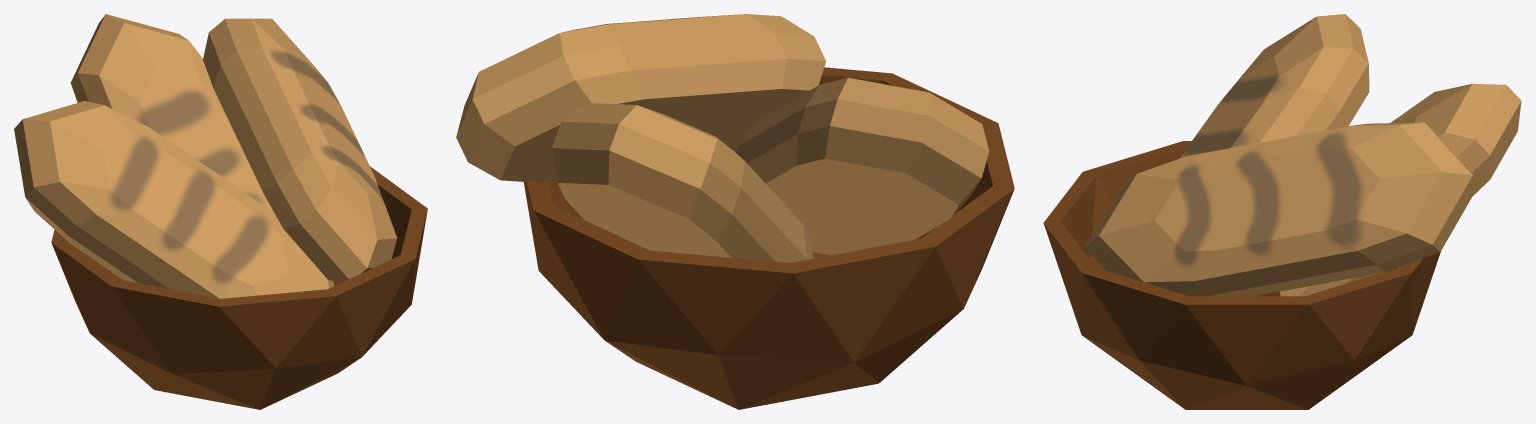
Rendered from bowlBread.fbx.
3 views of the same model, side by side, from view 1: azimuth 30°, elevation 25°; view 2: azimuth 150°, elevation 25°; view 3: azimuth 270°, elevation 25° (orthographic). The views are drawn at different scales.
Visible parts, largest first — view 1: BowlOfBread; view 2: BowlOfBread; view 3: BowlOfBread.
Boxes of the visible parts, box(x1,y1,x2,y2) form: BowlOfBread: box(14, 14, 427, 409); BowlOfBread: box(456, 14, 1014, 409); BowlOfBread: box(1043, 14, 1521, 409).
Bounding box in the file's own units: 228 × 174 × 257.
2 materials, 1 textured.
